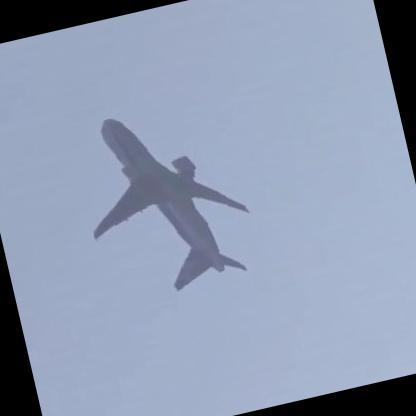plane: (68, 92, 269, 314)
